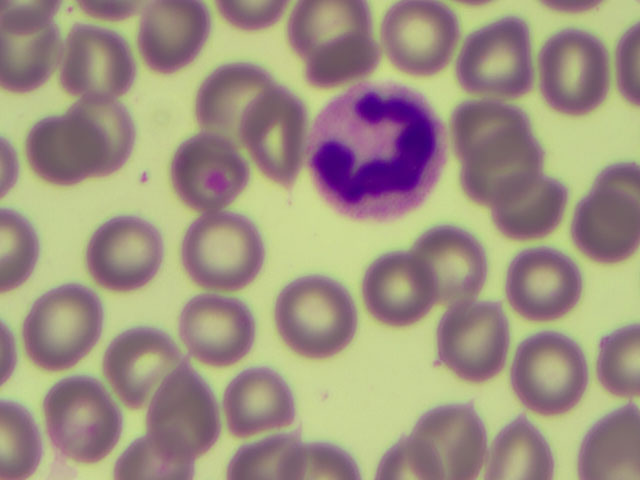RBC: (58, 25, 135, 99), (27, 98, 104, 172), (172, 137, 249, 211), (189, 62, 266, 136), (233, 101, 310, 175), (137, 2, 214, 76), (458, 16, 535, 90), (538, 35, 615, 109), (453, 87, 530, 161), (464, 139, 541, 213), (490, 170, 567, 244), (563, 185, 640, 259), (506, 248, 583, 322), (435, 304, 512, 378), (419, 224, 496, 298), (364, 256, 441, 330), (262, 280, 339, 354), (186, 214, 263, 288), (86, 216, 163, 290), (28, 291, 105, 365), (107, 326, 184, 400), (146, 375, 223, 449), (227, 368, 304, 442), (182, 294, 259, 368), (407, 402, 484, 476), (514, 335, 591, 409), (563, 406, 640, 480), (47, 380, 124, 454), (81, 98, 158, 172), (1, 1, 61, 95), (298, 1, 375, 74), (376, 1, 453, 74), (486, 413, 553, 480)
WBC: (308, 80, 447, 220)
